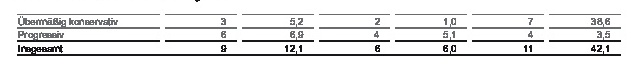table: (0, 0, 636, 79)
